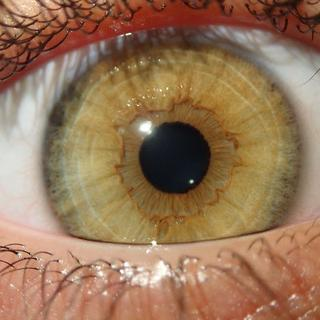iris: (44, 29, 300, 285)
